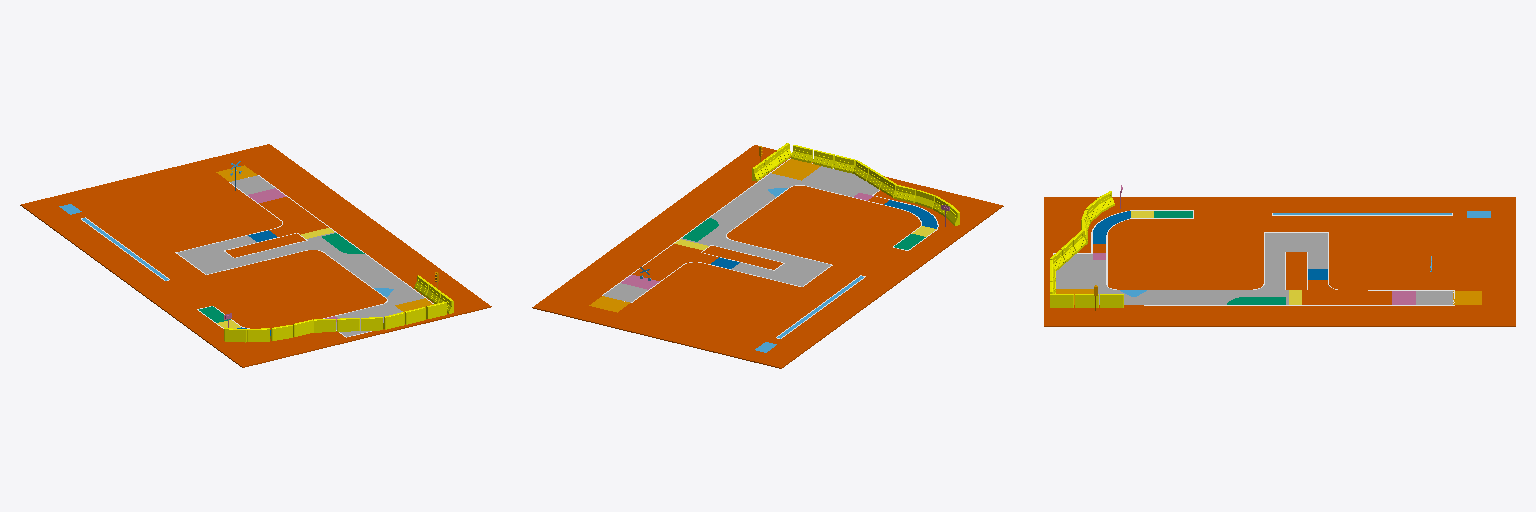
--- What the picture shows (computed from the rendered views, not written in the file) ---
Views: 3 orthographic renders of the robot side by side, from view 1: azimuth 30°, elevation 25°; view 2: azimuth 150°, elevation 25°; view 3: azimuth 270°, elevation 25°.
Robot: track — 46 links, 45 joints (45 fixed); root link world; default pose: every joint at zero.
Links seen in each view (by area): view 1: Around_1, part7_1, part13_1, line2_1; view 2: Around_1, part7_1, part13_1, line2_1, part9_1; view 3: Around_1, part7_1, part13_1, line2_1.
Link boxes in pixels (<box>): Around_1: <box>20,144,491,367</box>; part7_1: <box>178,232,423,336</box>; part13_1: <box>259,197,328,236</box>; line2_1: <box>175,175,433,337</box>; Around_1: <box>532,145,1003,368</box>; part7_1: <box>681,166,878,286</box>; part13_1: <box>632,244,718,280</box>; line2_1: <box>602,158,938,302</box>; part9_1: <box>772,159,820,180</box>; Around_1: <box>1044,197,1515,326</box>; part7_1: <box>1056,233,1327,304</box>; part13_1: <box>1302,280,1391,304</box>; line2_1: <box>1053,210,1454,305</box>.
Bounding box of the posed robot: 25.53 × 39.44 × 2.93 m (x, y, z).
Meshes: 33 distinct files referenced, 40 mesh visuals loaded (7 binary STL, 21 Collada DAE); not drawn: 5 (reference not matched to a file when rendering).

robot.urdf — track:
<?xml version="1.0" ?>
<!-- =================================================================================== -->
<!-- |    This document was autogenerated by xacro from track.xacro                    | -->
<!-- |    EDITING THIS FILE BY HAND IS NOT RECOMMENDED                                 | -->
<!-- =================================================================================== -->
<robot name="track">
  <!--xacro:include filename="$(find track_description)/urdf/materials.xacro" /-->
  <!--xacro:include filename="$(find track_description)/urdf/track.trans" /-->
  <!--xacro:include filename="$(find track_description)/urdf/track.gazebo" /-->
  <link name="world"/>
  <link name="base_link">
    <inertial>
      <origin rpy="0 0 0" xyz="-12.16367922091026 -0.05000000000000001 -14.911258399489613"/>
      <mass value="1948.647157556515"/>
      <inertia ixx="665.881022" ixy="0.0" ixz="0.0" iyy="908.878743" iyz="0.0" izz="246.245466"/>
    </inertial>
    <visual>
      <origin rpy="0 0 0" xyz="0 0 0"/>
      <geometry>
        <mesh filename="../meshes/base_link.dae" scale="1 1 1"/>
      </geometry>
    </visual>
    <collision>
      <origin rpy="0 0 0" xyz="0 0 0"/>
      <geometry>
        <mesh filename="../meshes/base_link.dae" scale="1 1 1"/>
      </geometry>
    </collision>
  </link>
  <link name="part2_1">
    <inertial>
      <origin rpy="0 0 0" xyz="-2.20910182591183e-07 0.0 8.345582681916742"/>
      <mass value="3841.44272520496"/>
      <inertia ixx="3470.669699" ixy="0.0" ixz="-0.0" iyy="4175.191187" iyz="-0.0" izz="710.923893"/>
    </inertial>
    <visual>
      <origin rpy="0 0 0" xyz="12.163679 0.05 -2.3"/>
      <geometry>
        <mesh filename="../meshes/part2.dae" scale="1 1 1"/>
      </geometry>
    </visual>
    <collision>
      <origin rpy="0 0 0" xyz="12.163679 0.05 -2.3"/>
      <geometry>
        <mesh filename="../meshes/part2.dae" scale="1 1 1"/>
      </geometry>
    </collision>
  </link>
  <link name="part3_1">
    <inertial>
      <origin rpy="0 0 0" xyz="-0.08041122090996566 0.0 0.9312757319168199"/>
      <mass value="2176.3308575863857"/>
      <inertia ixx="632.341347" ixy="-0.0" ixz="0.0" iyy="1031.480932" iyz="-0.0" izz="402.766803"/>
    </inertial>
    <visual>
      <origin rpy="0 0 0" xyz="12.083268 0.05 -12.292178"/>
      <geometry>
        <mesh filename="../meshes/part3.dae" scale="1 1 1"/>
      </geometry>
    </visual>
    <collision>
      <origin rpy="0 0 0" xyz="12.083268 0.05 -12.292178"/>
      <geometry>
        <mesh filename="../meshes/part3.dae" scale="1 1 1"/>
      </geometry>
    </collision>
  </link>
  <link name="part4_1">
    <inertial>
      <origin rpy="0 0 0" xyz="2.4131407243752196 1.3877787807814457e-17 1.9662055432439978"/>
      <mass value="6844.4209139985005"/>
      <inertia ixx="5193.919289" ixy="-0.0" ixz="-8662.168205" iyy="27654.207337" iyz="0.0" izz="22471.695416"/>
    </inertial>
    <visual>
      <origin rpy="0 0 0" xyz="12.083268 0.05 -14.156755"/>
      <geometry>
        <mesh filename="../meshes/part4.dae" scale="1 1 1"/>
      </geometry>
    </visual>
    <collision>
      <origin rpy="0 0 0" xyz="12.083268 0.05 -14.156755"/>
      <geometry>
        <mesh filename="../meshes/part4.dae" scale="1 1 1"/>
      </geometry>
    </collision>
  </link>
  <link name="part5_1">
    <inertial>
      <origin rpy="0 0 0" xyz="0.7416842171852851 0.0 -0.0010130023061876159"/>
      <mass value="1476.898353715573"/>
      <inertia ixx="162.379207" ixy="0.0" ixz="0.0" iyy="493.865055" iyz="0.0" izz="333.947346"/>
    </inertial>
    <visual>
      <origin rpy="0 0 0" xyz="6.151635 0.05 -16.83583"/>
      <geometry>
        <mesh filename="../meshes/part5.dae" scale="1 1 1"/>
      </geometry>
    </visual>
    <collision>
      <origin rpy="0 0 0" xyz="6.151635 0.05 -16.83583"/>
      <geometry>
        <mesh filename="../meshes/part5.dae" scale="1 1 1"/>
      </geometry>
    </collision>
  </link>
  <link name="part6_1">
    <inertial>
      <origin rpy="0 0 0" xyz="0.6720107014604793 -6.938893903907228e-18 -0.0006835193377412452"/>
      <mass value="1351.7281508919084"/>
      <inertia ixx="148.617085" ixy="0.0" ixz="-0.335107" iyy="402.580575" iyz="0.0" izz="256.21637"/>
    </inertial>
    <visual>
      <origin rpy="0 0 0" xyz="4.507443 0.05 -16.83583"/>
      <geometry>
        <mesh filename="../meshes/part6.dae" scale="1 1 1"/>
      </geometry>
    </visual>
    <collision>
      <origin rpy="0 0 0" xyz="4.507443 0.05 -16.83583"/>
      <geometry>
        <mesh filename="../meshes/part6.dae" scale="1 1 1"/>
      </geometry>
    </collision>
  </link>
  <link name="part7_1">
    <inertial>
      <origin rpy="0 0 0" xyz="2.7723071064958376 2.0816681711721685e-17 -8.01776406472789"/>
      <mass value="83647.17162157068"/>
      <inertia ixx="4883688.444376" ixy="0.0" ixz="-1096608.167509" iyy="6361991.625419" iyz="0.0" izz="1478442.592996"/>
    </inertial>
    <visual>
      <origin rpy="0 0 0" xyz="3.0026 0.05 -16.83583"/>
      <geometry>
        <mesh filename="../meshes/part7.dae" scale="1 1 1"/>
      </geometry>
    </visual>
    <collision>
      <origin rpy="0 0 0" xyz="3.0026 0.05 -16.83583"/>
      <geometry>
        <mesh filename="../meshes/part7.dae" scale="1 1 1"/>
      </geometry>
    </collision>
  </link>
  <link name="part9_1">
    <inertial>
      <origin rpy="0 0 0" xyz="-0.08041105256126624 0.0 1.7989870614022436"/>
      <mass value="8874.30951987296"/>
      <inertia ixx="9591.649539" ixy="0.0" ixz="-0.0" iyy="16876.783118" iyz="0.0" izz="7299.924094"/>
    </inertial>
    <visual>
      <origin rpy="0 0 0" xyz="-4.270118 0.05 -17.0"/>
      <geometry>
        <mesh filename="../meshes/part9.dae" scale="1 1 1"/>
      </geometry>
    </visual>
    <collision>
      <origin rpy="0 0 0" xyz="-4.270118 0.05 -17.0"/>
      <geometry>
        <mesh filename="../meshes/part9.dae" scale="1 1 1"/>
      </geometry>
    </collision>
  </link>
  <link name="part10_1">
    <inertial>
      <origin rpy="0 0 0" xyz="0.36627071510181164 0.0 -1.1205714373174835"/>
      <mass value="1507.2193326477145"/>
      <inertia ixx="368.331412" ixy="-0.0" ixz="6.655803" iyy="566.896037" iyz="-0.0" izz="201.076657"/>
    </inertial>
    <visual>
      <origin rpy="0 0 0" xyz="-2.980085 0.05 -15.097306"/>
      <geometry>
        <mesh filename="../meshes/part10.dae" scale="1 1 1"/>
      </geometry>
    </visual>
    <collision>
      <origin rpy="0 0 0" xyz="-2.980085 0.05 -15.097306"/>
      <geometry>
        <mesh filename="../meshes/part10.dae" scale="1 1 1"/>
      </geometry>
    </collision>
  </link>
  <link name="part11_1">
    <inertial>
      <origin rpy="0 0 0" xyz="0.7561962089086274 -6.938893903907228e-18 0.473330663470954"/>
      <mass value="5844.358118857035"/>
      <inertia ixx="10791.764743" ixy="0.0" ixz="-424.491765" iyy="12013.300226" iyz="-0.0" izz="1231.27608"/>
    </inertial>
    <visual>
      <origin rpy="0 0 0" xyz="-4.2632 0.05 -3.046158"/>
      <geometry>
        <mesh filename="../meshes/part11.dae" scale="1 1 1"/>
      </geometry>
    </visual>
    <collision>
      <origin rpy="0 0 0" xyz="-4.2632 0.05 -3.046158"/>
      <geometry>
        <mesh filename="../meshes/part11.dae" scale="1 1 1"/>
      </geometry>
    </collision>
  </link>
  <link name="wall1_1">
    <inertial>
      <origin rpy="0 0 0" xyz="-0.08041134349240942 0.0 -0.544607214553082"/>
      <mass value="2535.200930302323"/>
      <inertia ixx="251.825923" ixy="-0.0" ixz="0.0" iyy="2113.97179" iyz="-0.0" izz="1866.371202"/>
    </inertial>
    <visual>
      <origin rpy="0 0 0" xyz="-4.385277 0.05 -0.987189"/>
      <geometry>
        <mesh filename="../meshes/wall1.dae" scale="1 1 1"/>
      </geometry>
    </visual>
    <collision>
      <origin rpy="0 0 0" xyz="-4.385277 0.05 -0.987189"/>
      <geometry>
        <mesh filename="../meshes/wall1.dae" scale="1 1 1"/>
      </geometry>
    </collision>
  </link>
  <link name="part12_1">
    <inertial>
      <origin rpy="0 0 0" xyz="0.9962318481689612 0.0 -0.001012938597753088"/>
      <mass value="2873.5611222112075"/>
      <inertia ixx="694.443938" ixy="0.0" ixz="0.0" iyy="1802.355888" iyz="0.0" izz="1112.701219"/>
    </inertial>
    <visual>
      <origin rpy="0 0 0" xyz="1.2 0.05 1.45"/>
      <geometry>
        <mesh filename="../meshes/part12.dae" scale="1 1 1"/>
      </geometry>
    </visual>
    <collision>
      <origin rpy="0 0 0" xyz="1.2 0.05 1.45"/>
      <geometry>
        <mesh filename="../meshes/part12.dae" scale="1 1 1"/>
      </geometry>
    </collision>
  </link>
  <link name="part13_1">
    <inertial>
      <origin rpy="0 0 0" xyz="3.036903856170502 0.0 -2.067697094439687"/>
      <mass value="20140.949506864097"/>
      <inertia ixx="95611.28623" ixy="-0.0" ixz="14483.106113" iyy="123298.019755" iyz="0.0" izz="27720.301775"/>
    </inertial>
    <visual>
      <origin rpy="0 0 0" xyz="-0.953287 0.05 1.45"/>
      <geometry>
        <mesh filename="../meshes/part13.dae" scale="1 1 1"/>
      </geometry>
    </visual>
    <collision>
      <origin rpy="0 0 0" xyz="-0.953287 0.05 1.45"/>
      <geometry>
        <mesh filename="../meshes/part13.dae" scale="1 1 1"/>
      </geometry>
    </collision>
  </link>
  <link name="part14_1">
    <inertial>
      <origin rpy="0 0 0" xyz="-0.08041161674924169 0.0 -1.0240906704913106"/>
      <mass value="4661.37030103746"/>
      <inertia ixx="1630.218223" ixy="-0.0" ixz="0.0" iyy="4897.80373" iyz="0.0" izz="3275.354457"/>
    </inertial>
    <visual>
      <origin rpy="0 0 0" xyz="-4.434033 0.05 7.623993"/>
      <geometry>
        <mesh filename="../meshes/part14.dae" scale="1 1 1"/>
      </geometry>
    </visual>
    <collision>
      <origin rpy="0 0 0" xyz="-4.434033 0.05 7.623993"/>
      <geometry>
        <mesh filename="../meshes/part14.dae" scale="1 1 1"/>
      </geometry>
    </collision>
  </link>
  <link name="part15_1">
    <inertial>
      <origin rpy="0 0 0" xyz="-0.074939853051184 1.3877787807814457e-17 -1.567816033212809"/>
      <mass value="7143.965745986927"/>
      <inertia ixx="5847.499479" ixy="0.0" ixz="17.394634" iyy="10866.50912" iyz="0.0" izz="5030.91625"/>
    </inertial>
    <visual>
      <origin rpy="0 0 0" xyz="-4.434033 0.05 9.670149"/>
      <geometry>
        <mesh filename="../meshes/part15.dae" scale="1 1 1"/>
      </geometry>
    </visual>
    <collision>
      <origin rpy="0 0 0" xyz="-4.434033 0.05 9.670149"/>
      <geometry>
        <mesh filename="../meshes/part15.dae" scale="1 1 1"/>
      </geometry>
    </collision>
  </link>
  <link name="end_1">
    <inertial>
      <origin rpy="0 0 0" xyz="-0.07826468234016026 -6.938893903907228e-18 -1.2010110815133466"/>
      <mass value="5479.526107066803"/>
      <inertia ixx="2634.742749" ixy="0.0" ixz="-2.205292" iyy="6492.827872" iyz="-0.0" izz="3867.217667"/>
    </inertial>
    <visual>
      <origin rpy="0 0 0" xyz="-4.445776 0.05 12.802602"/>
      <geometry>
        <mesh filename="../meshes/end.dae" scale="1 1 1"/>
      </geometry>
    </visual>
    <collision>
      <origin rpy="0 0 0" xyz="-4.445776 0.05 12.802602"/>
      <geometry>
        <mesh filename="../meshes/end.dae" scale="1 1 1"/>
      </geometry>
    </collision>
  </link>
  <link name="part1_1">
    <inertial>
      <origin rpy="0 0 0" xyz="-2.2091026252724077e-07 0.0 8.7"/>
      <mass value="4710.0"/>
      <inertia ixx="88316.425" ixy="0.0" ixz="0.0" iyy="88375.3" iyz="0.0" izz="66.725"/>
    </inertial>
    <visual>
      <origin rpy="0 0 0" xyz="12.163679 0.05 13.9"/>
      <geometry>
        <mesh filename="../meshes/part1.dae" scale="1 1 1"/>
      </geometry>
    </visual>
    <collision>
      <origin rpy="0 0 0" xyz="12.163679 0.05 13.9"/>
      <geometry>
        <mesh filename="../meshes/part1.dae" scale="1 1 1"/>
      </geometry>
    </collision>
  </link>
  <link name="line1_1">
    <inertial>
      <origin rpy="0 0 0" xyz="0.03632077908973663 -2.0816681711721685e-17 -7.499999999999988"/>
      <mass value="2449.2"/>
      <inertia ixx="49528.005" ixy="0.0" ixz="0.0" iyy="49677.94" iyz="0.0" izz="154.017"/>
    </inertial>
    <visual>
      <origin rpy="0 0 0" xyz="12.2 0.05 -2.3"/>
      <geometry>
        <mesh filename="../meshes/line1.dae" scale="1 1 1"/>
      </geometry>
    </visual>
    <collision>
      <origin rpy="0 0 0" xyz="12.2 0.05 -2.3"/>
      <geometry>
        <mesh filename="../meshes/line1.dae" scale="1 1 1"/>
      </geometry>
    </collision>
  </link>
  <link name="line2_1">
    <inertial>
      <origin rpy="0 0 0" xyz="10.949652633652217 -6.106226635438361e-16 -2.0582519744512515"/>
      <mass value="10778.199986573487"/>
      <inertia ixx="1051085.680015" ixy="-0.0" ixz="205783.027508" iyy="1480584.124736" iyz="-0.0" izz="429516.408387"/>
    </inertial>
    <visual>
      <origin rpy="0 0 0" xyz="12.083268 0.05 -9.001013"/>
      <geometry>
        <mesh filename="../meshes/line2.dae" scale="1 1 1"/>
      </geometry>
    </visual>
    <collision>
      <origin rpy="0 0 0" xyz="12.083268 0.05 -9.001013"/>
      <geometry>
        <mesh filename="../meshes/line2.dae" scale="1 1 1"/>
      </geometry>
    </collision>
  </link>
  <link name="line3_1">
    <inertial>
      <origin rpy="0 0 0" xyz="3.7195884902779133 0.0 -0.0010129385977529215"/>
      <mass value="1460.1"/>
      <inertia ixx="1032.9815" ixy="0.0" ixz="0.0" iyy="10528.53775" iyz="-0.0" izz="9497.98975"/>
    </inertial>
    <visual>
      <origin rpy="0 0 0" xyz="4.7 0.05 -0.35"/>
      <geometry>
        <mesh filename="../meshes/line3.dae" scale="1 1 1"/>
      </geometry>
    </visual>
    <collision>
      <origin rpy="0 0 0" xyz="4.7 0.05 -0.35"/>
      <geometry>
        <mesh filename="../meshes/line3.dae" scale="1 1 1"/>
      </geometry>
    </collision>
  </link>
  <link name="Around_1">
    <inertial>
      <origin rpy="0 0 0" xyz="8.683360706591051 -6.938893903907228e-18 16.651724535911644"/>
      <mass value="610945.314329402"/>
      <inertia ixx="81179833.368253" ixy="-0.0" ixz="1258328.282746" iyy="116794413.283881" iyz="0.0" izz="35615598.157819"/>
    </inertial>
    <visual>
      <origin rpy="0 0 0" xyz="12.163679 0.05 15.922517"/>
      <geometry>
        <mesh filename="../meshes/around.dae" scale="1 1 1"/>
      </geometry>
    </visual>
    <collision>
      <origin rpy="0 0 0" xyz="12.163679 0.05 15.922517"/>
      <geometry>
        <mesh filename="../meshes/around.dae" scale="1 1 1"/>
      </geometry>
    </collision>
  </link>
  <joint name="Rigid6" type="fixed">
    <origin rpy="0 0 0" xyz="0.0 0.0 16.2"/>
    <parent link="part1_1"/>
    <child link="part2_1"/>
  </joint>
  <joint name="Rigid7" type="fixed">
    <origin rpy="0 0 0" xyz="0.080411 0.0 9.992178"/>
    <parent link="part2_1"/>
    <child link="part3_1"/>
  </joint>
  <joint name="Rigid8" type="fixed">
    <origin rpy="0 0 0" xyz="0.0 0.0 1.864577"/>
    <parent link="part3_1"/>
    <child link="part4_1"/>
  </joint>
  <joint name="Rigid9" type="fixed">
    <origin rpy="0 0 0" xyz="5.931633 0.0 2.679075"/>
    <parent link="part4_1"/>
    <child link="part5_1"/>
  </joint>
  <joint name="Rigid10" type="fixed">
    <origin rpy="0 0 0" xyz="1.644192 0.0 0.0"/>
    <parent link="part5_1"/>
    <child link="part6_1"/>
  </joint>
  <joint name="Rigid11" type="fixed">
    <origin rpy="0 0 0" xyz="1.504843 0.0 0.0"/>
    <parent link="part6_1"/>
    <child link="part7_1"/>
  </joint>
  <joint name="Rigid12" type="fixed">
    <origin rpy="0 0 0" xyz="7.272718 0.0 0.16417"/>
    <parent link="part7_1"/>
    <child link="part9_1"/>
  </joint>
  <joint name="Rigid13" type="fixed">
    <origin rpy="0 0 0" xyz="5.982685 0.0 -1.738524"/>
    <parent link="part7_1"/>
    <child link="part10_1"/>
  </joint>
  <joint name="Rigid14" type="fixed">
    <origin rpy="0 0 0" xyz="7.2658 0.0 -13.789672"/>
    <parent link="part7_1"/>
    <child link="part11_1"/>
  </joint>
  <joint name="Rigid15" type="fixed">
    <origin rpy="0 0 0" xyz="7.387877 0.0 -15.848641"/>
    <parent link="part7_1"/>
    <child link="wall1_1"/>
  </joint>
  <joint name="Rigid16" type="fixed">
    <origin rpy="0 0 0" xyz="1.8026 0.0 -18.28583"/>
    <parent link="part7_1"/>
    <child link="part12_1"/>
  </joint>
  <joint name="Rigid17" type="fixed">
    <origin rpy="0 0 0" xyz="2.153287 0.0 0.0"/>
    <parent link="part12_1"/>
    <child link="part13_1"/>
  </joint>
  <joint name="Rigid18" type="fixed">
    <origin rpy="0 0 0" xyz="3.480746 0.0 -6.173993"/>
    <parent link="part13_1"/>
    <child link="part14_1"/>
  </joint>
  <joint name="Rigid19" type="fixed">
    <origin rpy="0 0 0" xyz="0.0 0.0 -2.046156"/>
    <parent link="part14_1"/>
    <child link="part15_1"/>
  </joint>
  <joint name="Rigid20" type="fixed">
    <origin rpy="0 0 0" xyz="0.011743 0.0 -3.132453"/>
    <parent link="part15_1"/>
    <child link="end_1"/>
  </joint>
  <joint name="Rigid21" type="fixed">
    <origin rpy="0 0 0" xyz="-12.163679 -0.05 -13.9"/>
    <parent link="base_link"/>
    <child link="part1_1"/>
  </joint>
  <joint name="Rigid22" type="fixed">
    <origin rpy="0 0 0" xyz="-0.036321 0.0 16.2"/>
    <parent link="part1_1"/>
    <child link="line1_1"/>
  </joint>
  <joint name="Rigid23" type="fixed">
    <origin rpy="0 0 0" xyz="0.080411 0.0 6.701013"/>
    <parent link="part2_1"/>
    <child link="line2_1"/>
  </joint>
  <joint name="Rigid24" type="fixed">
    <origin rpy="0 0 0" xyz="-1.6974 0.0 -16.48583"/>
    <parent link="part7_1"/>
    <child link="line3_1"/>
  </joint>
  <joint name="Rigid25" type="fixed">
    <origin rpy="0 0 0" xyz="-12.163679 -0.05 -15.922517"/>
    <parent link="base_link"/>
    <child link="Around_1"/>
  </joint>
  <joint name="dummyLink" type="fixed">
    <origin rpy="1.57079632679 0 0" xyz="0.0 0.0 0.0"/>
    <parent link="world"/>
    <child link="base_link"/>
  </joint>
  <!--Fixing the plane to the world-->
  <link name="body_1">
    <inertial>
      <origin rpy="0 0 0" xyz="0.0 0.0 0.0"/>
      <mass value="28.08754454395106"/>
      <inertia ixx="2.571447" ixy="-0.085573" ixz="0.0" iyy="0.206481" iyz="0.0" izz="2.384565"/>
    </inertial>
    <visual>
      <origin rpy="0 0 0" xyz="0.0 0.0 0.0"/>
      <geometry>
        <mesh filename="../meshes/zebra_light/zebra_body.stl" scale="0.002 0.002 0.002"/>
      </geometry>
    </visual>
    <collision>
      <origin rpy="0 0 0" xyz="0.0 0.0 0.0"/>
      <geometry>
        <mesh filename="../meshes/zebra_light/zebra_body.stl" scale="0.002 0.002 0.002"/>
      </geometry>
    </collision>
  </link>
  <link name="right_1">
    <inertial>
      <origin rpy="0 0 0" xyz="0.0 0.0 0.0"/>
      <mass value="1.4371326208573594"/>
      <inertia ixx="0.001501" ixy="0.0" ixz="0.0" iyy="0.000843" iyz="0.0" izz="0.000843"/>
    </inertial>
    <visual>
      <origin rpy="0 0 0" xyz="0.0 0.0 0.0"/>
      <geometry>
        <mesh filename="../meshes/zebra_light/right_1.stl" scale="0.002 0.002 0.002"/>
      </geometry>
    </visual>
    <collision>
      <origin rpy="0 0 0" xyz="0.0 0.0 0.0"/>
      <geometry>
        <mesh filename="../meshes/zebra_light/right_1.stl" scale="0.002 0.002 0.002"/>
      </geometry>
    </collision>
  </link>
  <link name="left_1">
    <inertial>
      <origin rpy="0 0 0" xyz="0.0 0.0 0.0"/>
      <mass value="1.4371326208573594"/>
      <inertia ixx="0.001501" ixy="0.0" ixz="-0.0" iyy="0.000843" iyz="0.0" izz="0.000843"/>
    </inertial>
    <visual>
      <origin rpy="0 0 0" xyz="0.0 0.0 0.0"/>
      <geometry>
        <mesh filename="../meshes/zebra_light/left_1.stl" scale="0.002 0.002 0.002"/>
      </geometry>
    </visual>
    <collision>
      <origin rpy="0 0 0" xyz="0.0 0.0 0.0"/>
      <geometry>
        <mesh filename="../meshes/zebra_light/left_1.stl" scale="0.002 0.002 0.002"/>
      </geometry>
    </collision>
  </link>
  <joint name="Rigid4_zebra" type="fixed">
    <origin rpy="1.57 0 1.57" xyz="-13.505 -15 2"/>
    <parent link="world"/>
    <child link="body_1"/>
  </joint>
  <joint name="Rigid5_zebra" type="fixed">
    <origin rpy="0 0 1.57" xyz="-13.625 -15.005 1.75"/>
    <parent link="world"/>
    <child link="right_1"/>
  </joint>
  <joint name="Rigid6_zebra" type="fixed">
    <origin rpy="0 0 1.57" xyz="-13.325 -15.005 1.44"/>
    <parent link="world"/>
    <child link="left_1"/>
  </joint>

  <!---->

  <link name="base_1_train">
    <inertial>
      <origin rpy="0 0 0" xyz="4.141547975660548e-09 0.008532182335207136 0.9350831882207518"/>
      <mass value="18.952595041966223"/>
      <inertia ixx="2.543635" ixy="-0.0" ixz="0.0" iyy="2.844214" iyz="-0.019315" izz="0.306557"/>
    </inertial>
    <visual>
      <origin rpy="0 0 0" xyz="0.0025 -0.0025 -0.003"/>
      <geometry>
        <mesh filename="../meshes/train_cross_light/base_1.stl" scale="0.002 0.002 0.002"/>
      </geometry>
    </visual>
    <collision>
      <origin rpy="0 0 0" xyz="0.0025 -0.0025 -0.003"/>
      <geometry>
        <mesh filename="../meshes/train_cross_light/base_1.stl" scale="0.002 0.002 0.002"/>
      </geometry>
    </collision>
  </link>
  <link name="left_1_train">
    <inertial>
      <origin rpy="0 0 0" xyz="0.20999999996274937 0.035341689538783985 0.8600000000000001"/>
      <mass value="2.0513817721110135"/>
      <inertia ixx="0.001462" ixy="0.0" ixz="0.0" iyy="0.002547" iyz="-0.0" izz="0.001462"/>
    </inertial>
    <visual>
      <origin rpy="0 0 0" xyz="0.0025 -0.0055 -0.0015"/>
      <geometry>
        <mesh filename="../meshes/train_cross_light/left_1.stl" scale="0.002 0.002 0.002"/>
      </geometry>
    </visual>
    <collision>
      <origin rpy="0 0 0" xyz="0.0025 -0.0055 -0.0015"/>
      <geometry>
        <mesh filename="../meshes/train_cross_light/left_1.stl" scale="0.002 0.002 0.002"/>
      </geometry>
    </collision>
  </link>
  <link name="right_1_train">
    <inertial>
      <origin rpy="0 0 0" xyz="-0.21000000003725064 0.035341689538783985 0.8500000000000001"/>
      <mass value="2.0513817721110112"/>
      <inertia ixx="0.001462" ixy="0.0" ixz="0.0" iyy="0.002547" iyz="-0.0" izz="0.001462"/>
    </inertial>
    <visual>
      <origin rpy="0 0 0" xyz="0.0025 -0.0055 -0.0015"/>
      <geometry>
        <mesh filename="../meshes/train_cross_light/right_1.stl" scale="0.002 0.002 0.002"/>
      </geometry>
    </visual>
    <collision>
      <origin rpy="0 0 0" xyz="0.0025 -0.0055 -0.0015"/>
      <geometry>
        <mesh filename="../meshes/train_cross_light/right_1.stl" scale="0.002 0.002 0.002"/>
      </geometry>
    </collision>
  </link>
  <joint name="Rigid4_train" type="fixed">
    <origin rpy="0 0 3.14" xyz="2.4975 11.0025 0.003"/>
    <parent link="world"/>
    <child link="base_1_train"/>
  </joint>
  <joint name="Rigid5_train" type="fixed">
    <origin rpy="0 0 3.14" xyz="2.4975 11.0055 0.0015"/>
    <parent link="world"/>
    <child link="left_1_train"/>
  </joint>
  <joint name="Rigid6_train" type="fixed">
    <origin rpy="0 0 3.14" xyz="2.4975 11.0055 0.0015"/>
    <parent link="world"/>
    <child link="right_1_train"/>
  </joint>



  <link name="base_link_traffic">
    <inertial>
      <origin rpy="0 0 0" xyz="0.0 0.0 0.0"/>
      <mass value="0.471"/>
      <inertia ixx="0.000114" ixy="-0.0" ixz="0.0" iyy="0.000239" iyz="-0.0" izz="0.000157"/>
    </inertial>
    <visual>
      <origin rpy="0 0 0" xyz="0.0 0.0 0.0"/>
      <geometry>
        <mesh filename="../meshes/traffic_light/base_link.stl" scale="0.002 0.002 0.002"/>
      </geometry>
    </visual>
    <collision>
      <origin rpy="0 0 0" xyz="0 0 0"/>
      <geometry>
        <mesh filename="../meshes/traffic_light/base_link.stl" scale="0.002 0.002 0.002"/>
      </geometry>
    </collision>
  </link>
  <link name="yellow_1_traffic">
    <inertial>
      <origin rpy="0 0 0" xyz="0.0 0.0 0.0"/>
      <mass value="1.485557054975668"/>
      <inertia ixx="0.001458" ixy="-0.0" ixz="0.0" iyy="0.000849" iyz="0.0" izz="0.000849"/>
    </inertial>
    <visual>
      <origin rpy="0 0 0" xyz="0.0 0.0 0.0"/>
      <geometry>
        <mesh filename="../meshes/traffic_light/yellow_1.stl" scale="0.002 0.002 0.002"/>
      </geometry>
    </visual>
    <collision>
      <origin rpy="0 0 0" xyz="0.0 0.0 0.0"/>
      <geometry>
        <mesh filename="../meshes/traffic_light/yellow_1.stl" scale="0.002 0.002 0.002"/>
      </geometry>
    </collision>
  </link>
  <link name="green_1_traffic">
    <inertial>
      <origin rpy="0 0 0" xyz="0.0 0.0 0.0"/>
      <mass value="1.4855570549756691"/>
      <inertia ixx="0.001458" ixy="0.0" ixz="0.0" iyy="0.000849" iyz="0.0" izz="0.000849"/>
    </inertial>
    <visual>
      <origin rpy="0 0 0" xyz="0.0 0.0 0.0"/>
      <geometry>
        <mesh filename="../meshes/traffic_light/green_1.stl" scale="0.002 0.002 0.002"/>
      </geometry>
    </visual>
    <collision>
      <origin rpy="0 0 0" xyz="0.0 0.0 0.0"/>
      <geometry>
        <mesh filename="../meshes/traffic_light/green_1.stl" scale="0.002 0.002 0.002"/>
      </geometry>
    </collision>
  </link>
  <link name="red_1_traffic">
    <inertial>
      <origin rpy="0 0 0" xyz="0.0 0.0 0.0"/>
      <mass value="1.4855570549756685"/>
      <inertia ixx="0.001458" ixy="-0.0" ixz="0.0" iyy="0.000849" iyz="-0.0" izz="0.000849"/>
    </inertial>
    <visual>
      <origin rpy="0 0 0" xyz="0.0 0.0 0.0"/>
      <geometry>
        <mesh filename="../meshes/traffic_light/red_1.stl" scale="0.002 0.002 0.002"/>
      </geometry>
    </visual>
    <collision>
      <origin rpy="0 0 0" xyz="0.0 0.0 0.0"/>
      <geometry>
        <mesh filename="../meshes/traffic_light/red_1.stl" scale="0.002 0.002 0.002"/>
      </geometry>
    </collision>
  </link>
  <link name="body_1_traffic">
    <inertial>
      <origin rpy="0 0 0" xyz="0.0 0.0 0.0"/>
      <mass value="59.654438026945236"/>
      <inertia ixx="3.344969" ixy="-0.006824" ixz="0.0" iyy="0.152107" iyz="0.0" izz="3.295578"/>
    </inertial>
    <visual>
      <origin rpy="0 0 0" xyz="0.0 0.0 0.0"/>
      <geometry>
        <mesh filename="../meshes/traffic_light/body_1.stl" scale="0.002 0.002 0.002"/>
      </geometry>
    </visual>
    <collision>
      <origin rpy="0 0 0" xyz="0.0 0.0 0.0"/>
      <geometry>
        <mesh filename="../meshes/traffic_light/body_1.stl" scale="0.002 0.002 0.002"/>
      </geometry>
    </collision>
  </link>
  <joint name="Rigid1_traffic" type="fixed">
    <origin rpy="1.57 0 3.14" xyz="7 -17 1.5"/>
    <parent link="world"/>
    <child link="yellow_1_traffic"/>
  </joint>
  <joint name="Rigid2_traffic" type="fixed">
    <origin rpy="1.57 0 3.14" xyz="7 -17 1.5"/>
    <parent link="world"/>
    <child link="green_1_traffic"/>
  </joint>
  <joint name="Rigid3_traffic" type="fixed">
    <origin rpy="1.57 0 3.14 " xyz="7 -17 1.5"/>
    <parent link="world"/>
    <child link="red_1_traffic"/>
  </joint>
  <joint name="Rigid4_traffic" type="fixed">
    <origin rpy="1.57 0 3.14" xyz="7 -17 1.5"/>
    <parent link="world"/>
    <child link="body_1_traffic"/>
  </joint>
  <joint name="Rigid5_traffic" type="fixed">
    <origin rpy="1.57 0 3.14" xyz="7 -17 1.5"/>
    <parent link="world"/>
    <child link="base_link_traffic"/>
  </joint>





  <link name="pylon_1">
    <inertial>
      <origin rpy="0 0 0" xyz="0.0 0.0 0.0"/>
      <mass value="1.0"/>
      <inertia ixx="1.0" ixy="0.0" ixz="0.0" iyy="0.0" iyz="0.0" izz="1.0"/>
    </inertial>
    <visual>
      <origin rpy="0 0 0" xyz="0.0 0.0 0.0"/>
      <geometry>
        <mesh filename="../meshes/pylons/pylon.stl" scale="4 4 4"/>
      </geometry>
      <material name="orange">
        <color rgba="255 204 0 1"/>
      </material>
    </visual>
    <collision>
      <origin rpy="0 0 0" xyz="0.0 0.0 0.0"/>
      <geometry>
        <mesh filename="../meshes/pylons/pylon.stl" scale="4 4 4"/>
      </geometry>
    </collision>
  </link>
  
  <link name="pylon_2">
    <inertial>
      <origin rpy="0 0 0" xyz="0.0 0.0 0.0"/>
      <mass value="1.0"/>
      <inertia ixx="1.0" ixy="0.0" ixz="0.0" iyy="0.0" iyz="0.0" izz="1.0"/>
    </inertial>
    <visual>
      <origin rpy="0 0 0" xyz="0.0 0.0 0.0"/>
      <geometry>
        <mesh filename="../meshes/pylons/pylon.stl" scale="4 4 4"/>
      </geometry>
      <material name="orange">
        <color rgba="255 204 0 1"/>
      </material>
    </visual>
    <collision>
      <origin rpy="0 0 0" xyz="0.0 0.0 0.0"/>
      <geometry>
        <mesh filename="../meshes/pylons/pylon.stl" scale="4 4 4"/>
      </geometry>
    </collision>
  </link>


  <link name="pylon_3">
    <inertial>
      <origin rpy="0 0 0" xyz="0.0 0.0 0.0"/>
      <mass value="1.0"/>
      <inertia ixx="1.0" ixy="0.0" ixz="0.0" iyy="0.0" iyz="0.0" izz="1.0"/>
    </inertial>
    <visual>
      <origin rpy="0 0 0" xyz="0.0 0.0 0.0"/>
      <geometry>
        <mesh filename="../meshes/pylons/pylon.stl" scale="4 4 4"/>
      </geometry>
      <material name="orange">
        <color rgba="255 204 0 1"/>
      </material>
    </visual>
    <collision>
      <origin rpy="0 0 0" xyz="0.0 0.0 0.0"/>
      <geometry>
        <mesh filename="../meshes/pylons/pylon.stl" scale="4 4 4"/>
      </geometry>
    </collision>
  </link>

  <link name="pylon_4">
    <inertial>
      <origin rpy="0 0 0" xyz="0.0 0.0 0.0"/>
      <mass value="1.0"/>
      <inertia ixx="1.0" ixy="0.0" ixz="0.0" iyy="0.0" iyz="0.0" izz="1.0"/>
    </inertial>
    <visual>
      <origin rpy="0 0 0" xyz="0.0 0.0 0.0"/>
      <geometry>
        <mesh filename="../meshes/pylons/pylon.stl" scale="4 4 4"/>
      </geometry>
      <material name="orange">
        <color rgba="255 204 0 1"/>
      </material>
    </visual>
    <collision>
      <origin rpy="0 0 0" xyz="0.0 0.0 0.0"/>
      <geometry>
        <mesh filename="../meshes/pylons/pylon.stl" scale="4 4 4"/>
      </geometry>
    </collision>
  </link>

  <link name="pylon_5">
    <inertial>
      <origin rpy="0 0 0" xyz="0.0 0.0 0.0"/>
      <mass value="1.0"/>
      <inertia ixx="1.0" ixy="0.0" ixz="0.0" iyy="0.0" iyz="0.0" izz="1.0"/>
    </inertial>
    <visual>
      <origin rpy="0 0 0" xyz="0.0 0.0 0.0"/>
      <geometry>
        <mesh filename="../meshes/pylons/pylon.stl" scale="4 4 4"/>
      </geometry>
      <material name="orange">
        <color rgba="255 204 0 1"/>
      </material>
    </visual>
    <collision>
      <origin rpy="0 0 0" xyz="0.0 0.0 0.0"/>
      <geometry>
        <mesh filename="../meshes/pylons/pylon.stl" scale="4 4 4"/>
      </geometry>
    </collision>
  </link>

  <link name="pylon_6">
    <inertial>
      <origin rpy="0 0 0" xyz="0.0 0.0 0.0"/>
      <mass value="1.0"/>
      <inertia ixx="1.0" ixy="0.0" ixz="0.0" iyy="0.0" iyz="0.0" izz="1.0"/>
    </inertial>
    <visual>
      <origin rpy="0 0 0" xyz="0.0 0.0 0.0"/>
      <geometry>
        <mesh filename="../meshes/pylons/pylon.stl" scale="4 4 4"/>
      </geometry>
      <material name="orange">
        <color rgba="255 204 0 1"/>
      </material>
    </visual>
    <collision>
      <origin rpy="0 0 0" xyz="0.0 0.0 0.0"/>
      <geometry>
        <mesh filename="../meshes/pylons/pylon.stl" scale="4 4 4"/>
      </geometry>
    </collision>
  </link>



  <link name="pylon_7">
    <inertial>
      <origin rpy="0 0 0" xyz="0.0 0.0 0.0"/>
      <mass value="1.0"/>
      <inertia ixx="1.0" ixy="0.0" ixz="0.0" iyy="0.0" iyz="0.0" izz="1.0"/>
    </inertial>
    <visual>
      <origin rpy="0 0 0" xyz="0.0 0.0 0.0"/>
      <geometry>
        <mesh filename="../meshes/pylons/pylon.stl" scale="4 4 4"/>
      </geometry>
      <material name="orange">
        <color rgba="255 204 0 1"/>
      </material>
    </visual>
    <collision>
      <origin rpy="0 0 0" xyz="0.0 0.0 0.0"/>
      <geometry>
        <mesh filename="../meshes/pylons/pylon.stl" scale="4 4 4"/>
      </geometry>
    </collision>
  </link>


  <link name="pylon_8">
    <inertial>
      <origin rpy="0 0 0" xyz="0.0 0.0 0.0"/>
      <mass value="1.0"/>
      <inertia ixx="1.0" ixy="0.0" ixz="0.0" iyy="0.0" iyz="0.0" izz="1.0"/>
    </inertial>
    <visual>
      <origin rpy="0 0 0" xyz="0.0 0.0 0.0"/>
      <geometry>
        <mesh filename="../meshes/pylons/pylon.stl" scale="4 4 4"/>
      </geometry>
      <material name="orange">
        <color rgba="255 204 0 1"/>
      </material>
    </visual>
    <collision>
      <origin rpy="0 0 0" xyz="0.0 0.0 0.0"/>
      <geometry>
        <mesh filename="../meshes/pylons/pylon.stl" scale="4 4 4"/>
      </geometry>
    </collision>
  </link>

  <link name="pylon_9">
    <inertial>
      <origin rpy="0 0 0" xyz="0.0 0.0 0.0"/>
      <mass value="1.0"/>
      <inertia ixx="1.0" ixy="0.0" ixz="0.0" iyy="0.0" iyz="0.0" izz="1.0"/>
    </inertial>
    <visual>
      <origin rpy="0 0 0" xyz="0.0 0.0 0.0"/>
      <geometry>
        <mesh filename="../meshes/pylons/pylon.stl" scale="4 4 4"/>
      </geometry>
      <material name="orange">
        <color rgba="255 204 0 1"/>
      </material>
    </visual>
    <collision>
      <origin rpy="0 0 0" xyz="0.0 0.0 0.0"/>
      <geometry>
        <mesh filename="../meshes/pylons/pylon.stl" scale="4 4 4"/>
      </geometry>
    </collision>
  </link>


  <link name="pylon_10">
    <inertial>
      <origin rpy="0 0 0" xyz="0.0 0.0 0.0"/>
      <mass value="1.0"/>
      <inertia ixx="1.0" ixy="0.0" ixz="0.0" iyy="0.0" iyz="0.0" izz="1.0"/>
    </inertial>
    <visual>
      <origin rpy="0 0 0" xyz="0.0 0.0 0.0"/>
      <geometry>
        <mesh filename="../meshes/pylons/pylon.stl" scale="4 4 4"/>
      </geometry>
      <material name="orange">
        <color rgba="255 204 0 1"/>
      </material>
    </visual>
    <collision>
      <origin rpy="0 0 0" xyz="0.0 0.0 0.0"/>
      <geometry>
        <mesh filename="../meshes/pylons/pylon.stl" scale="4 4 4"/>
      </geometry>
    </collision>
  </link>



  <link name="pylon_11">
    <inertial>
      <origin rpy="0 0 0" xyz="0.0 0.0 0.0"/>
      <mass value="1.0"/>
      <inertia ixx="1.0" ixy="0.0" ixz="0.0" iyy="0.0" iyz="0.0" izz="1.0"/>
    </inertial>
    <visual>
      <origin rpy="0 0 0" xyz="0.0 0.0 0.0"/>
      <geometry>
        <mesh filename="../meshes/pylons/pylon.stl" scale="4 4 4"/>
      </geometry>
      <material name="orange">
        <color rgba="255 204 0 1"/>
      </material>
    </visual>
    <collision>
      <origin rpy="0 0 0" xyz="0.0 0.0 0.0"/>
      <geometry>
        <mesh filename="../meshes/pylons/pylon.stl" scale="4 4 4"/>
      </geometry>
    </collision>
  </link>


  <link name="pylon_12">
    <inertial>
      <origin rpy="0 0 0" xyz="0.0 0.0 0.0"/>
      <mass value="1.0"/>
      <inertia ixx="1.0" ixy="0.0" ixz="0.0" iyy="0.0" iyz="0.0" izz="1.0"/>
    </inertial>
    <visual>
      <origin rpy="0 0 0" xyz="0.0 0.0 0.0"/>
      <geometry>
        <mesh filename="../meshes/pylons/pylon.stl" scale="4 4 4"/>
      </geometry>
      <material name="orange">
        <color rgba="255 204 0 1"/>
      </material>
    </visual>
    <collision>
      <origin rpy="0 0 0" xyz="0.0 0.0 0.0"/>
      <geometry>
        <mesh filename="../meshes/pylons/pylon.stl" scale="4 4 4"/>
      </geometry>
    </collision>
  </link>

  <link name="pylon_13">
    <inertial>
      <origin rpy="0 0 0" xyz="0.0 0.0 0.0"/>
      <mass value="1.0"/>
      <inertia ixx="1.0" ixy="0.0" ixz="0.0" iyy="0.0" iyz="0.0" izz="1.0"/>
    </inertial>
    <visual>
      <origin rpy="0 0 0" xyz="0.0 0.0 0.0"/>
      <geometry>
        <mesh filename="../meshes/pylons/pylon.stl" scale="4 4 4"/>
      </geometry>
      <material name="orange">
        <color rgba="255 204 0 1"/>
      </material>
    </visual>
    <collision>
      <origin rpy="0 0 0" xyz="0.0 0.0 0.0"/>
      <geometry>
        <mesh filename="../meshes/pylons/pylon.stl" scale="4 4 4"/>
      </geometry>
    </collision>
  </link>


  <joint name="Rigid1_pylon1" type="fixed">
    <origin rpy="0 0 2.5" xyz="-13.25 -16.3 0"/>
    <parent link="world"/>
    <child link="pylon_1"/>
  </joint>
  <joint name="Rigid1_pylon2" type="fixed">
    <origin rpy="0 0 2.7" xyz="-11.5 -17.3 0"/>
    <parent link="world"/>
    <child link="pylon_2"/>
  </joint>

  <joint name="Rigid1_pylon3" type="fixed">
    <origin rpy="0 0 3.0" xyz="-9.5 -17.9 0"/>
    <parent link="world"/>
    <child link="pylon_3"/>
  </joint>

  <joint name="Rigid1_pylon4" type="fixed">
    <origin rpy="0 0 3.14" xyz="-7.4 -18 0"/>
    <parent link="world"/>
    <child link="pylon_4"/>
  </joint>

  <joint name="Rigid1_pylon5" type="fixed">
    <origin rpy="0 0 2.7" xyz="-5.4 -18.5 0"/>
    <parent link="world"/>
    <child link="pylon_5"/>
  </joint>

  <joint name="Rigid1_pylon6" type="fixed">
    <origin rpy="0 0 2.7" xyz="-3.5 -19.4 0"/>
    <parent link="world"/>
    <child link="pylon_6"/>
  </joint>

  <joint name="Rigid1_pylon7" type="fixed">
    <origin rpy="0 0 2.7" xyz="-1.6 -20.3 0"/>
    <parent link="world"/>
    <child link="pylon_7"/>
  </joint>

  <joint name="Rigid1_pylon8" type="fixed">
    <origin rpy="0 0 3.14" xyz="0.35 -20.7 0"/>
    <parent link="world"/>
    <child link="pylon_8"/>
  </joint>

  <joint name="Rigid1_pylon9" type="fixed">
    <origin rpy="0 0 3.14" xyz="2.5 -20.7 0"/>
    <parent link="world"/>
    <child link="pylon_9"/>
  </joint>

  <joint name="Rigid1_pylon10" type="fixed">
    <origin rpy="0 0 3.14" xyz="4.7 -20.7 0"/>
    <parent link="world"/>
    <child link="pylon_10"/>
  </joint>

  <joint name="Rigid1_pylon11" type="fixed">
    <origin rpy="0 0 4.7" xyz="6.1 -20 0"/>
    <parent link="world"/>
    <child link="pylon_11"/>
  </joint>

  <joint name="Rigid1_pylon12" type="fixed">
    <origin rpy="0 0 4.7" xyz="6.1 -17.9 0"/>
    <parent link="world"/>
    <child link="pylon_12"/>
  </joint>


  <joint name="Rigid1_pylon13" type="fixed">
    <origin rpy="0 0 4.7" xyz="6.1 -15.8 0"/>
    <parent link="world"/>
    <child link="pylon_13"/>
  </joint>


</robot>
